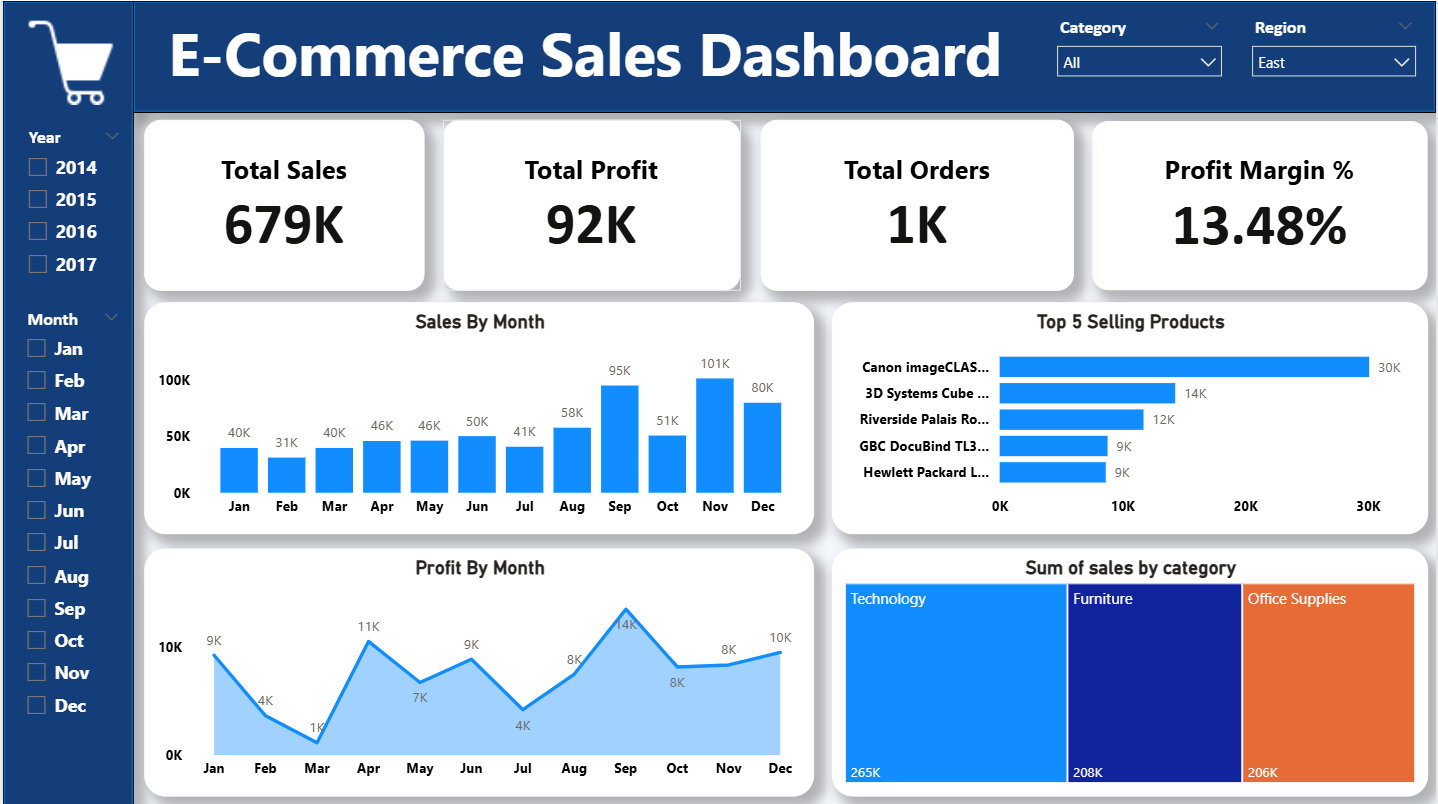

The dashboard page shown, as its layout file describes it:
{"tool":"powerbi","page":{"name":"Page 1","canvas":[1280,720],"ordinal":0},"visuals":[{"type":"shape","box":[0,0,117.1,720],"z":0},{"type":"image","box":[147.1,21.4,84.3,77.1],"z":1000},{"type":"shape","box":[115.7,0,1164.3,100],"z":2000},{"type":"slicer","fields":{"Values":["cleaned_dataset.Year"]},"box":[10,106.7,106.7,153.3],"z":3000},{"type":"textbox","box":[117.1,4.3,805.7,91.4],"z":4000},{"type":"slicer","fields":{"Values":["cleaned_dataset.Month"]},"box":[8.6,268.6,107.1,444.3],"z":5000},{"type":"slicer","fields":{"Values":["cleaned_dataset.category"]},"box":[931.4,8.6,167.9,90.7],"z":6000},{"type":"slicer","fields":{"Values":["cleaned_dataset.region"]},"box":[1105.7,8.6,166.4,90.7],"z":7000},{"type":"cardVisual","fields":{"Data":["cleaned_dataset.Total Sales"]},"box":[125.7,105.7,250,152.9],"z":8000},{"type":"cardVisual","fields":{"Data":["cleaned_dataset.Profit Margin %"]},"box":[972.9,107.1,300,151.4],"z":9000},{"type":"cardVisual","fields":{"Data":["cleaned_dataset.Total Orders"]},"box":[677.1,105.7,280,152.9],"z":10000},{"type":"cardVisual","fields":{"Data":["cleaned_dataset.Total Profit"]},"box":[392.9,105.7,265.7,152.9],"z":11000},{"type":"columnChart","title":"Sales By Month","fields":{"Y":["Sum(cleaned_dataset.sales)"],"Category":["cleaned_dataset.Month"]},"box":[125.7,268.6,598.6,207.1],"z":12000},{"type":"areaChart","title":"Profit By Month","fields":{"Category":["cleaned_dataset.Month"],"Y":["Sum(cleaned_dataset.profit)"]},"box":[125.7,488.6,598.6,221.4],"z":13000},{"type":"clusteredBarChart","title":"Top 5 Selling Products","fields":{"Category":["cleaned_dataset.product_name"],"Y":["Sum(cleaned_dataset.sales)"]},"box":[740,268.6,532.9,207.1],"z":14000},{"type":"treemap","fields":{"Group":["cleaned_dataset.category"],"Values":["Sum(cleaned_dataset.sales)"]},"box":[740,488.6,532.9,221.4],"z":15000},{"type":"image","box":[15.7,14.3,92.9,78.6],"z":16000}]}

Visuals, with their boxes in screenshot pixels (x1, y1, x2, y2), scaled from the page's 1280x720 canvas onto the 1438x804 screenshot:
shape: [left=0, top=0, right=132, bottom=803]
image: [left=165, top=24, right=260, bottom=110]
shape: [left=130, top=0, right=1437, bottom=112]
slicer - cleaned_dataset.Year: [left=11, top=119, right=131, bottom=290]
textbox: [left=132, top=5, right=1037, bottom=107]
slicer - cleaned_dataset.Month: [left=10, top=300, right=130, bottom=796]
slicer - cleaned_dataset.category: [left=1046, top=10, right=1235, bottom=111]
slicer - cleaned_dataset.region: [left=1242, top=10, right=1429, bottom=111]
cardVisual - cleaned_dataset.Total Sales: [left=141, top=118, right=422, bottom=289]
cardVisual - cleaned_dataset.Profit Margin %: [left=1093, top=120, right=1430, bottom=289]
cardVisual - cleaned_dataset.Total Orders: [left=761, top=118, right=1075, bottom=289]
cardVisual - cleaned_dataset.Total Profit: [left=441, top=118, right=740, bottom=289]
"Sales By Month" columnChart: [left=141, top=300, right=814, bottom=531]
"Profit By Month" areaChart: [left=141, top=546, right=814, bottom=793]
"Top 5 Selling Products" clusteredBarChart: [left=831, top=300, right=1430, bottom=531]
treemap - cleaned_dataset.category x Sum(cleaned_dataset.sales): [left=831, top=546, right=1430, bottom=793]
image: [left=18, top=16, right=122, bottom=104]
